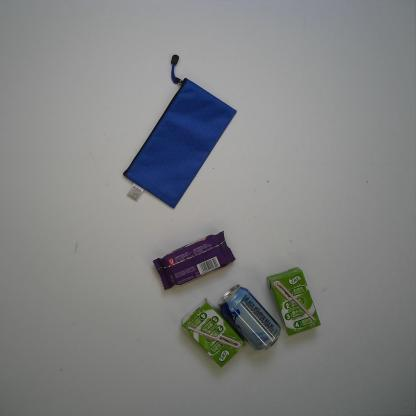Alcohol: (216, 282, 282, 354)
Dessert: (151, 229, 236, 292)
Milk: (179, 295, 247, 371), (262, 266, 322, 337)
Stationery: (122, 60, 238, 211)
